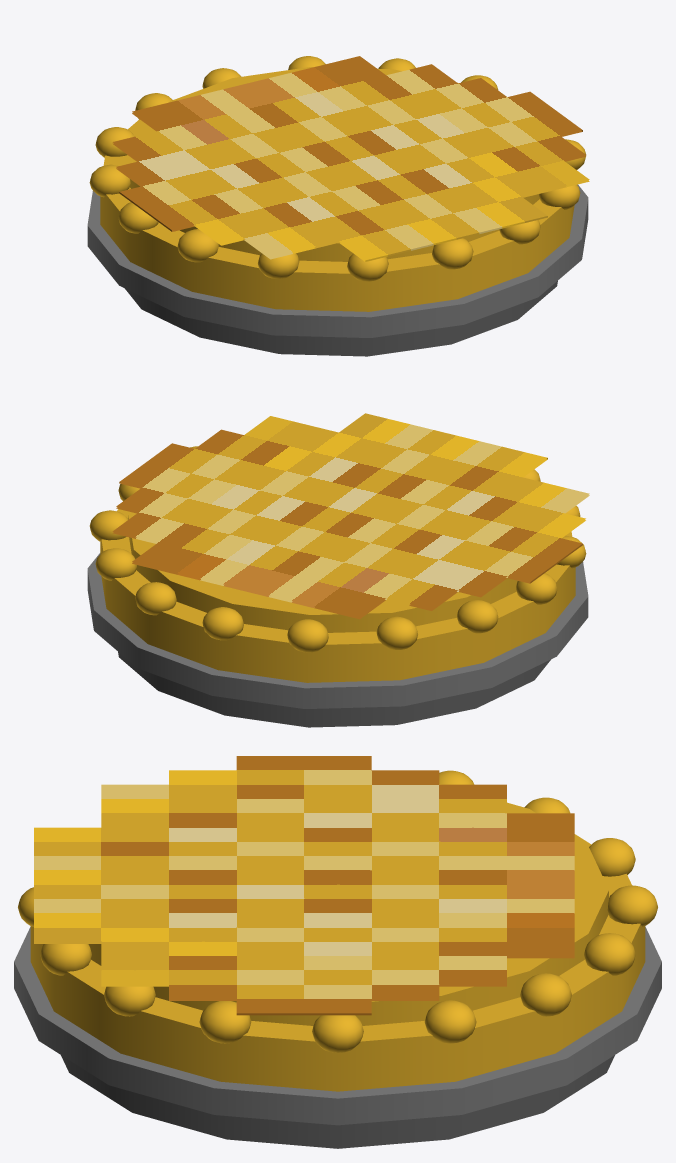
File: CMU3DBakedPieBaklava.glb
The picture shows the model from 3 angles, top to bottom: view 1: azimuth 30°, elevation 25°; view 2: azimuth 150°, elevation 25°; view 3: azimuth 270°, elevation 25°; orthographic projection. The views are drawn at different scales.
Visible parts, largest first — view 1: original pastry lattice and filling, solid pastry shell, rolled pan lip, metal pie pan, baked filling, crimped crust edge 10, crimped crust edge 13, crimped crust edge 8, crimped crust edge 12, crimped crust edge 11, crimped crust edge 9, crimped crust edge 7 (+2 smaller); view 2: original pastry lattice and filling, solid pastry shell, rolled pan lip, baked filling, metal pie pan, crimped crust edge 6, crimped crust edge 7, crimped crust edge 5, crimped crust edge 8, crimped crust edge 4, crimped crust edge 3, crimped crust edge 9 (+1 smaller); view 3: original pastry lattice and filling, solid pastry shell, rolled pan lip, metal pie pan, baked filling, crimped crust edge 2, crimped crust edge 3, crimped crust edge 4, crimped crust edge 16, crimped crust edge 5, crimped crust edge 1, crimped crust edge 6 (+2 smaller).
Part boxes in pixels (<box>): original pastry lattice and filling: <box>112,56,589,261</box>; solid pastry shell: <box>100,119,574,311</box>; rolled pan lip: <box>87,184,588,337</box>; metal pie pan: <box>125,281,557,356</box>; baked filling: <box>129,67,539,261</box>; crimped crust edge 10: <box>177,229,218,262</box>; crimped crust edge 13: <box>432,238,473,269</box>; crimped crust edge 8: <box>89,164,130,197</box>; crimped crust edge 12: <box>347,253,388,281</box>; crimped crust edge 11: <box>258,253,299,278</box>; crimped crust edge 9: <box>118,202,158,233</box>; crimped crust edge 7: <box>95,127,133,157</box>; original pastry lattice and filling: <box>112,413,589,619</box>; solid pastry shell: <box>100,509,575,682</box>; rolled pan lip: <box>87,553,588,708</box>; baked filling: <box>128,512,517,632</box>; metal pie pan: <box>118,652,550,727</box>; crimped crust edge 6: <box>287,619,328,652</box>; crimped crust edge 7: <box>376,616,417,649</box>; crimped crust edge 5: <box>202,607,243,640</box>; crimped crust edge 8: <box>457,600,498,633</box>; crimped crust edge 4: <box>135,582,176,615</box>; crimped crust edge 3: <box>95,548,136,580</box>; crimped crust edge 9: <box>516,573,557,604</box>; original pastry lattice and filling: <box>34,756,574,1015</box>; solid pastry shell: <box>30,834,645,1091</box>; rolled pan lip: <box>14,927,661,1125</box>; metal pie pan: <box>61,1055,614,1148</box>; baked filling: <box>88,784,608,1025</box>; crimped crust edge 2: <box>424,1000,476,1043</box>; crimped crust edge 3: <box>520,973,571,1016</box>; crimped crust edge 4: <box>584,933,635,975</box>; crimped crust edge 16: <box>199,1001,251,1043</box>; crimped crust edge 5: <box>607,885,657,926</box>; crimped crust edge 1: <box>312,1015,363,1052</box>; crimped crust edge 6: <box>589,838,635,876</box>.
Size of the model in its own units: 0.5488 by 0.132 by 0.5488.
Materials: 4 (1 with a texture image).
